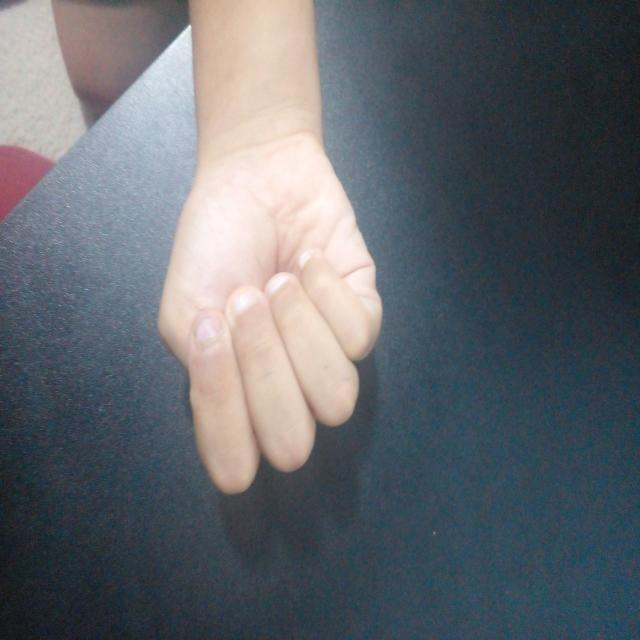Closed Hand: (159, 153, 388, 499)
